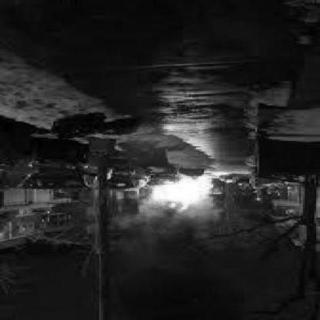Fire: (132, 162, 254, 226)
